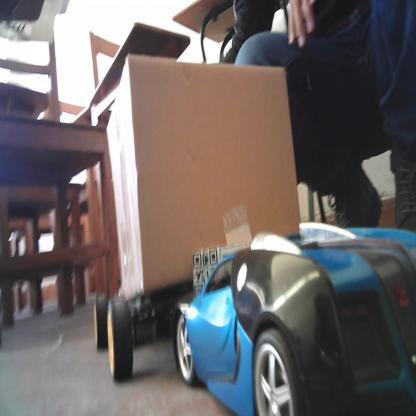LeadTruck: (113, 56, 301, 372)
